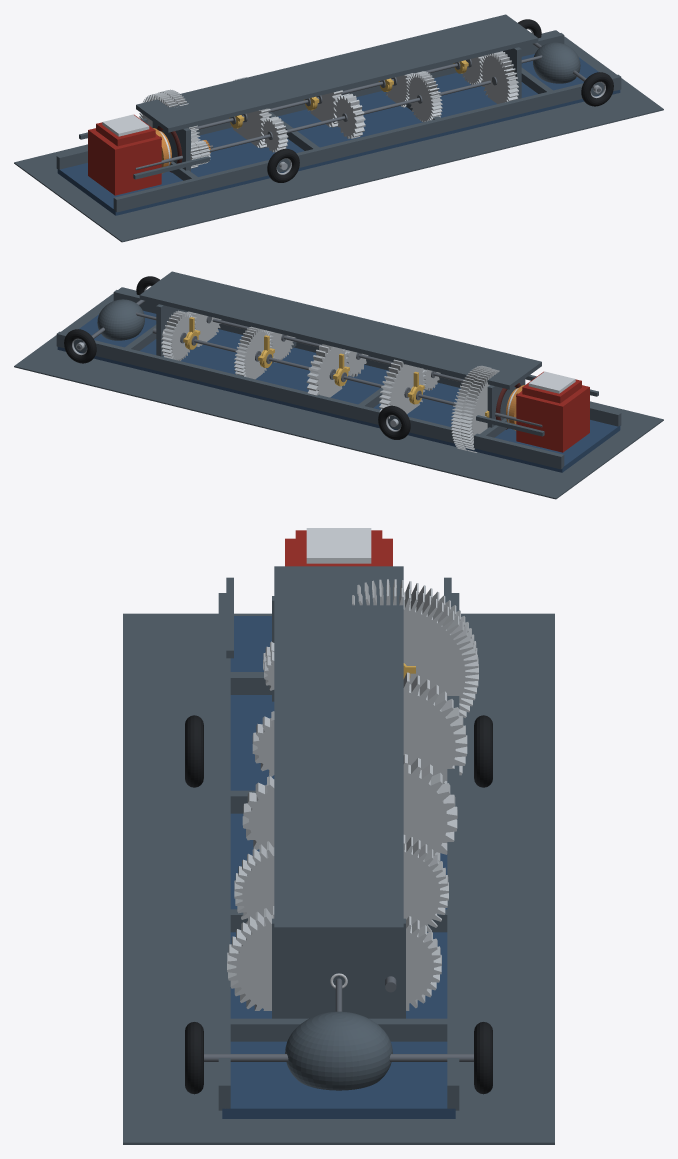
Rendered from car_transmission.glb.
The picture shows the model from 3 angles, top to bottom: view 1: azimuth 30°, elevation 25°; view 2: azimuth 150°, elevation 25°; view 3: azimuth 270°, elevation 25°; orthographic projection. The views are drawn at different scales.
Parts seen in each view (by area): view 1: Presentation_Floor, Gearbox_Top_Rail, Chassis_Base, Chassis_Rail_L, Engine_Block, Chassis_Rail_R, Differential_Housing, Gear_5_Input, Gear_4_Input, Input_Shaft, Chassis, Gear_3_Input (+15 smaller); view 2: Presentation_Floor, Gearbox_Top_Rail, Chassis_Base, Chassis_Rail_R, Engine_Block, Chassis_Rail_L, Differential_Housing, Reverse_Output, Gear_2_Output, Gear_3_Output, Gear_4_Output, Gear_5_Output (+14 smaller); view 3: Presentation_Floor, Gearbox_Top_Rail, Chassis_Base, Gearbox_EndPlate_10.35, Differential_Housing, Gear_1_Output, Chassis_Rail_L, Chassis, Gear_2_Output, Chassis_Rail_R, Gear_3_Output, Gear_5_Input (+13 smaller).
Boxes of the visible parts, left/top/right/bottom form: Presentation_Floor: left=14, top=30, right=663, bottom=242; Gearbox_Top_Rail: left=136, top=14, right=538, bottom=132; Chassis_Base: left=57, top=53, right=620, bottom=215; Chassis_Rail_L: left=113, top=74, right=621, bottom=212; Engine_Block: left=88, top=128, right=161, bottom=195; Chassis_Rail_R: left=56, top=33, right=564, bottom=170; Differential_Housing: left=533, top=42, right=580, bottom=83; Gear_5_Input: left=480, top=51, right=518, bottom=103; Gear_4_Input: left=407, top=71, right=442, bottom=122; Input_Shaft: left=135, top=80, right=490, bottom=170; Chassis: left=170, top=67, right=552, bottom=180; Gear_3_Input: left=334, top=93, right=365, bottom=138; Presentation_Floor: left=14, top=287, right=663, bottom=499; Gearbox_Top_Rail: left=139, top=271, right=541, bottom=389; Chassis_Base: left=57, top=310, right=620, bottom=472; Chassis_Rail_R: left=56, top=331, right=564, bottom=469; Engine_Block: left=516, top=385, right=589, bottom=452; Chassis_Rail_L: left=113, top=290, right=621, bottom=426; Differential_Housing: left=97, top=299, right=144, bottom=340; Reverse_Output: left=460, top=368, right=499, bottom=452; Gear_2_Output: left=379, top=359, right=426, bottom=418; Gear_3_Output: left=306, top=344, right=348, bottom=397; Gear_4_Output: left=234, top=326, right=272, bottom=379; Gear_5_Output: left=161, top=310, right=195, bottom=360; Presentation_Floor: left=123, top=613, right=554, bottom=1144; Gearbox_Top_Rail: left=274, top=566, right=403, bottom=935; Chassis_Base: left=222, top=616, right=455, bottom=1118; Gearbox_EndPlate_10.35: left=272, top=918, right=405, bottom=1018; Differential_Housing: left=285, top=1011, right=392, bottom=1090; Gear_1_Output: left=352, top=587, right=478, bottom=717; Chassis_Rail_L: left=218, top=593, right=230, bottom=1110; Chassis: left=230, top=672, right=447, bottom=1041; Gear_2_Output: left=403, top=672, right=467, bottom=784; Chassis_Rail_R: left=447, top=593, right=459, bottom=1110; Gear_3_Output: left=403, top=754, right=457, bottom=861; Gear_5_Input: left=227, top=906, right=274, bottom=1010.
Bounding box in the file's own units: 29 × 4.08 × 10.
